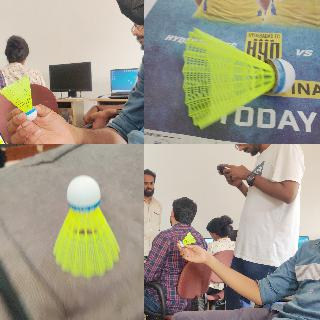shuttlecock: (181, 28, 293, 128), (53, 173, 121, 277), (0, 77, 37, 122), (178, 232, 196, 246)
